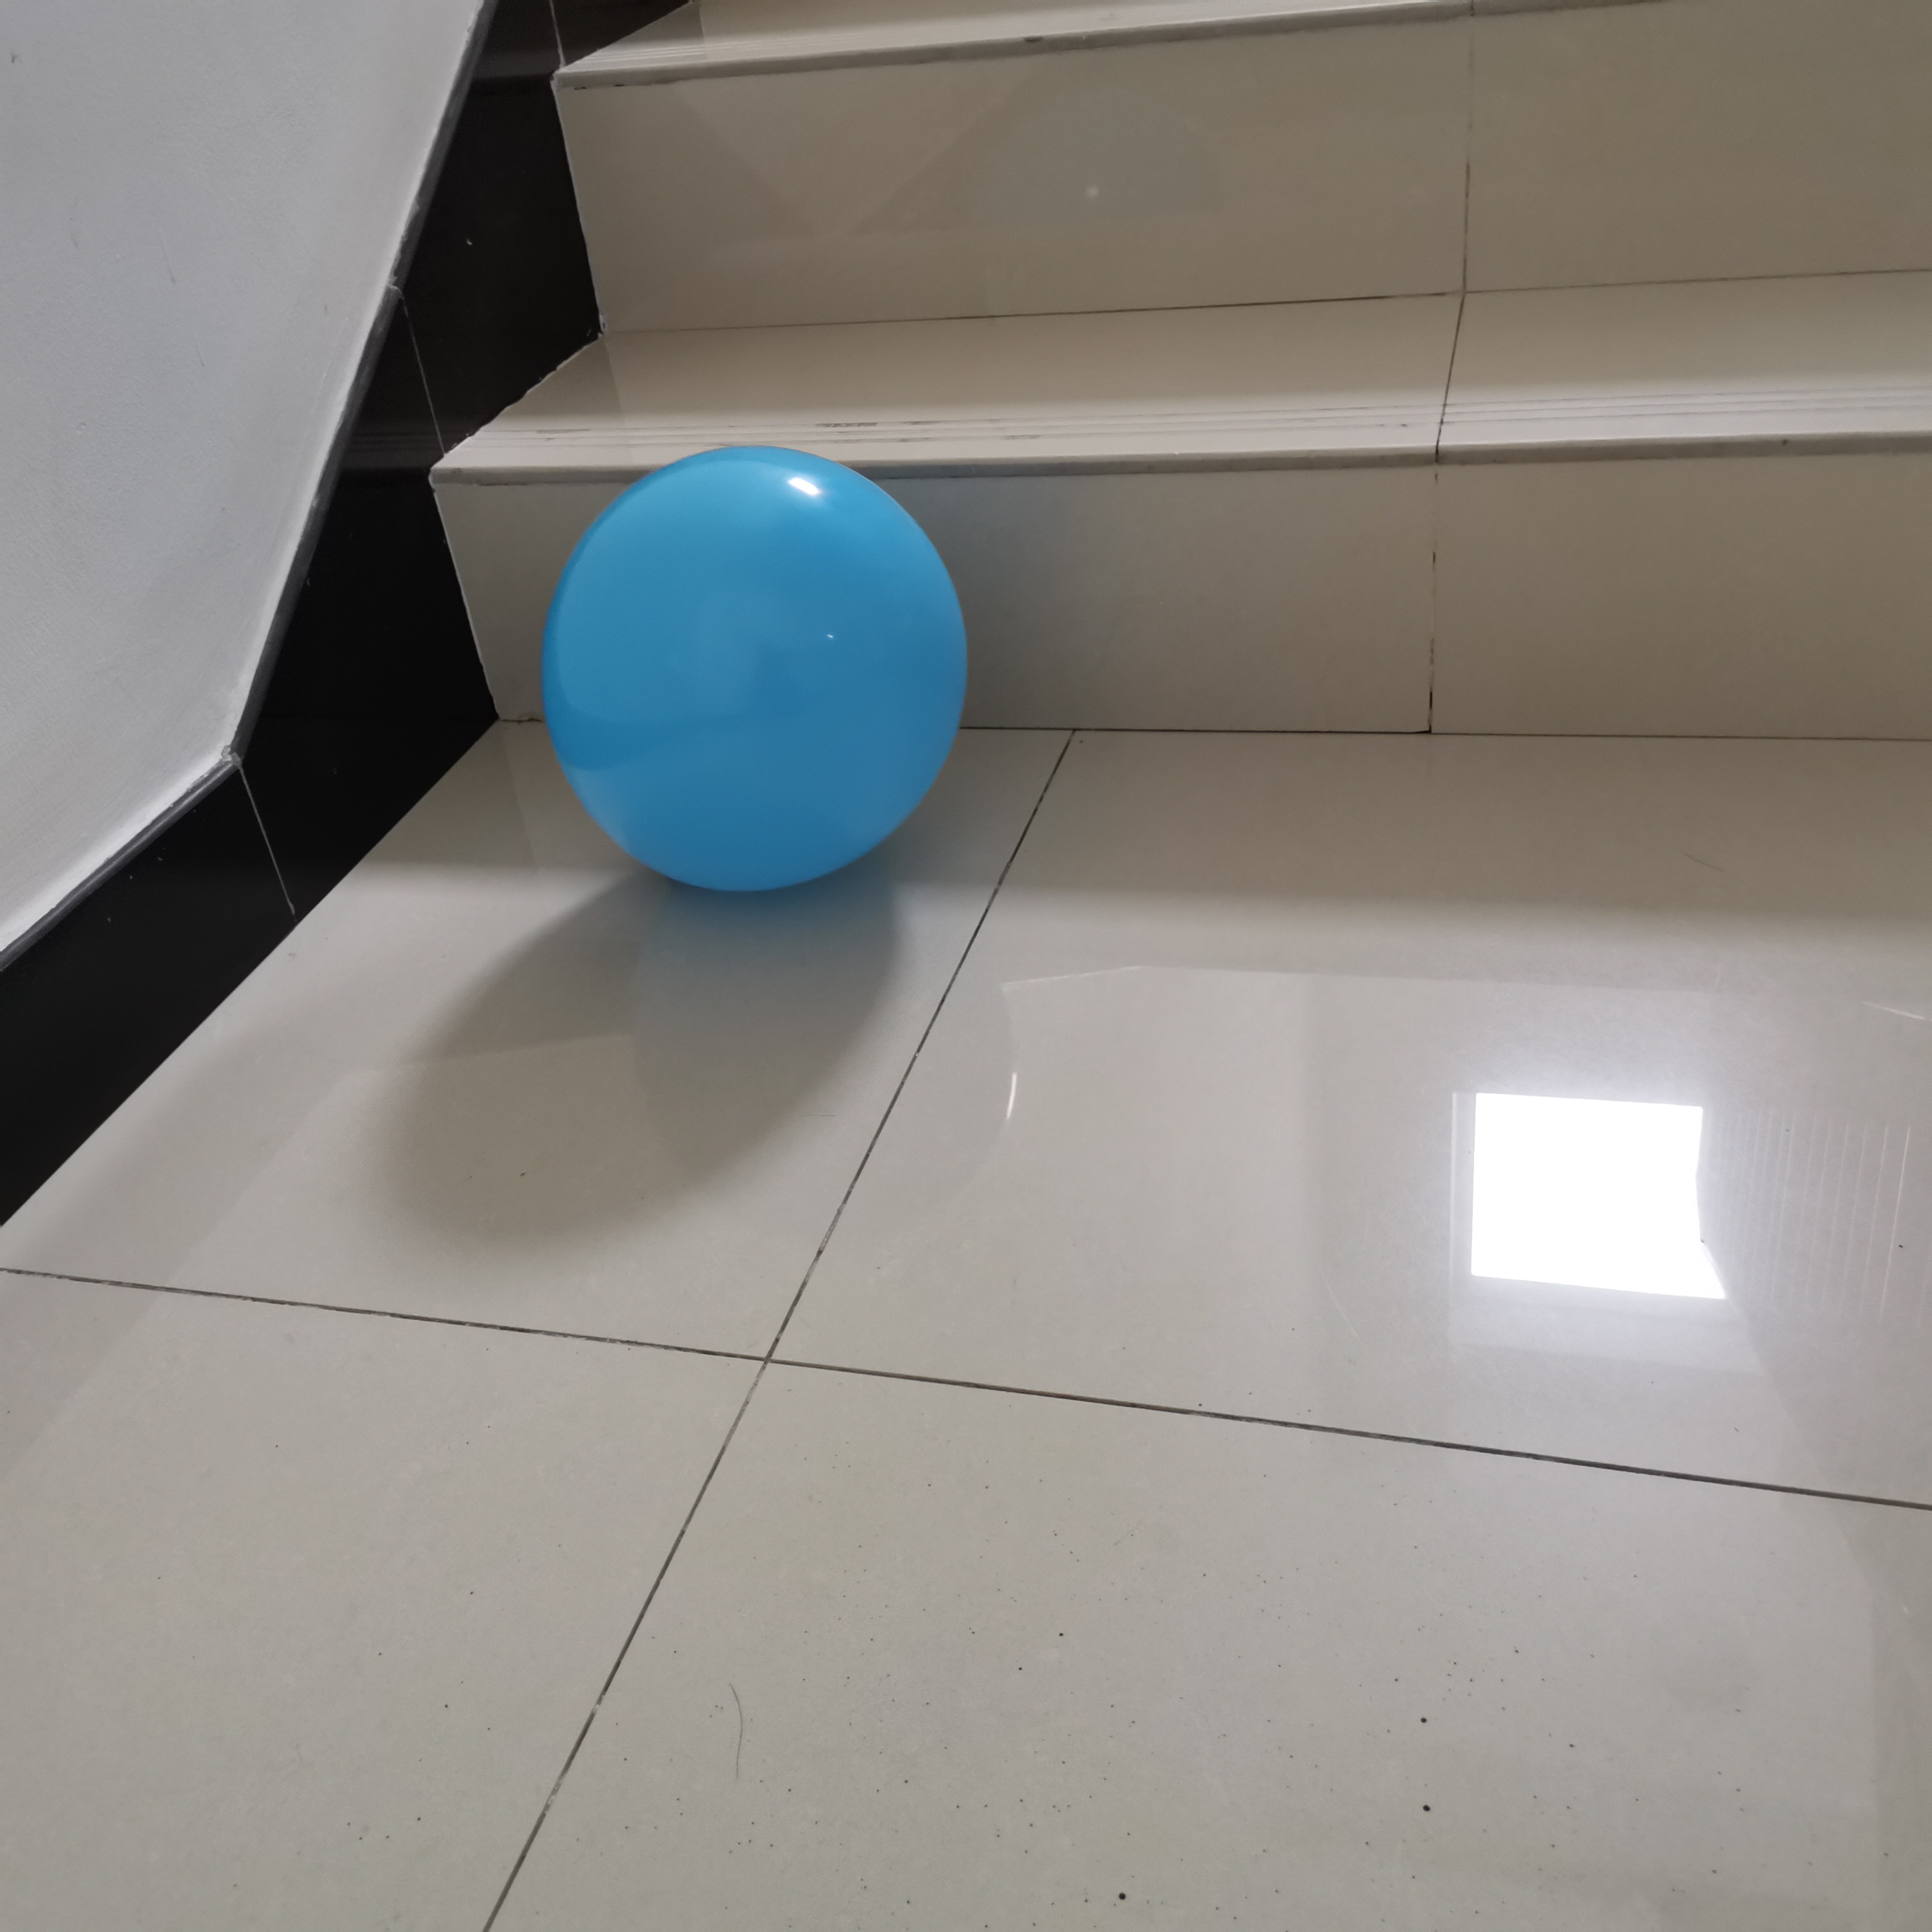balloon: (541, 449, 971, 904)
